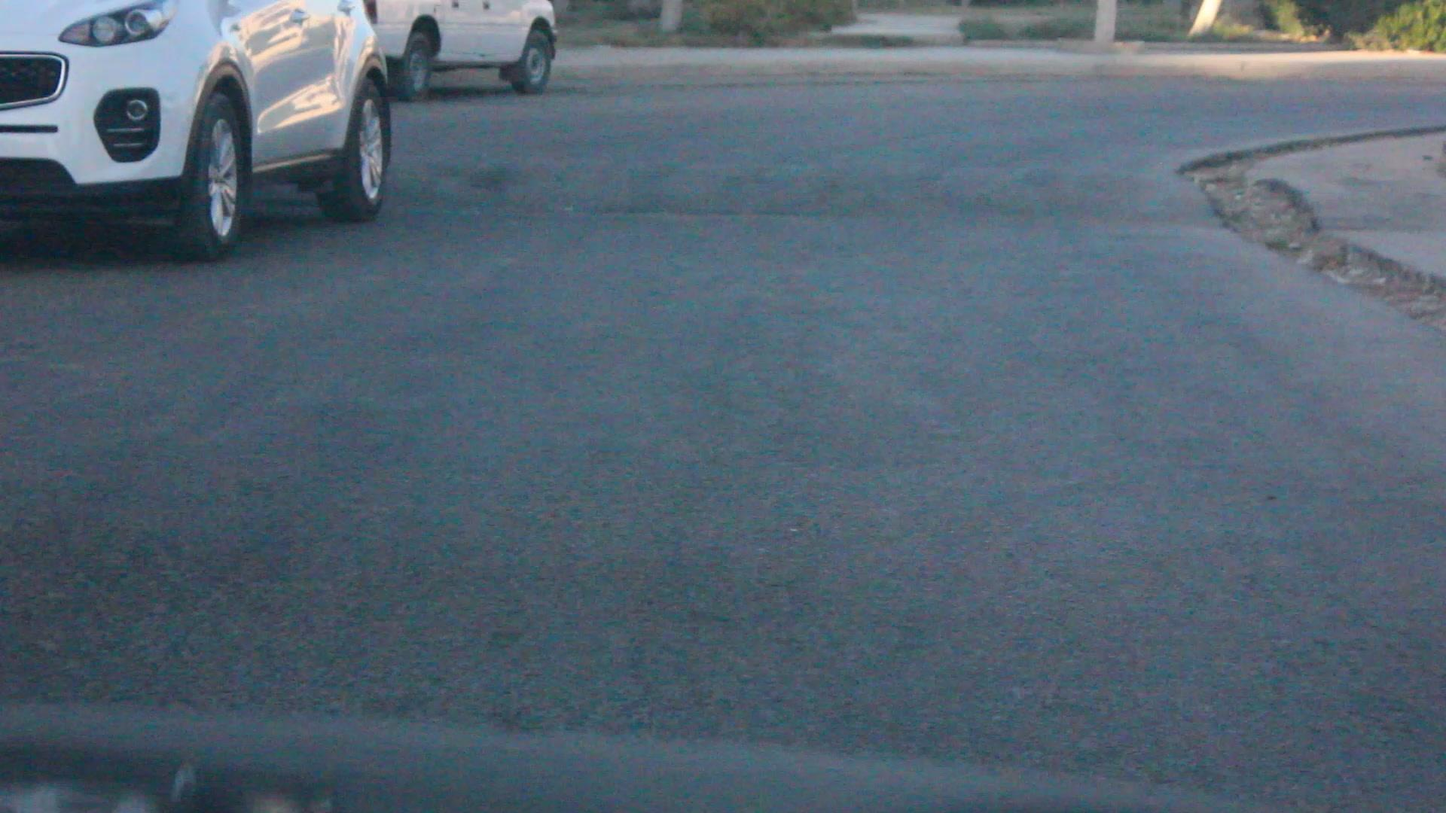Bump: (373, 156, 1237, 227)
